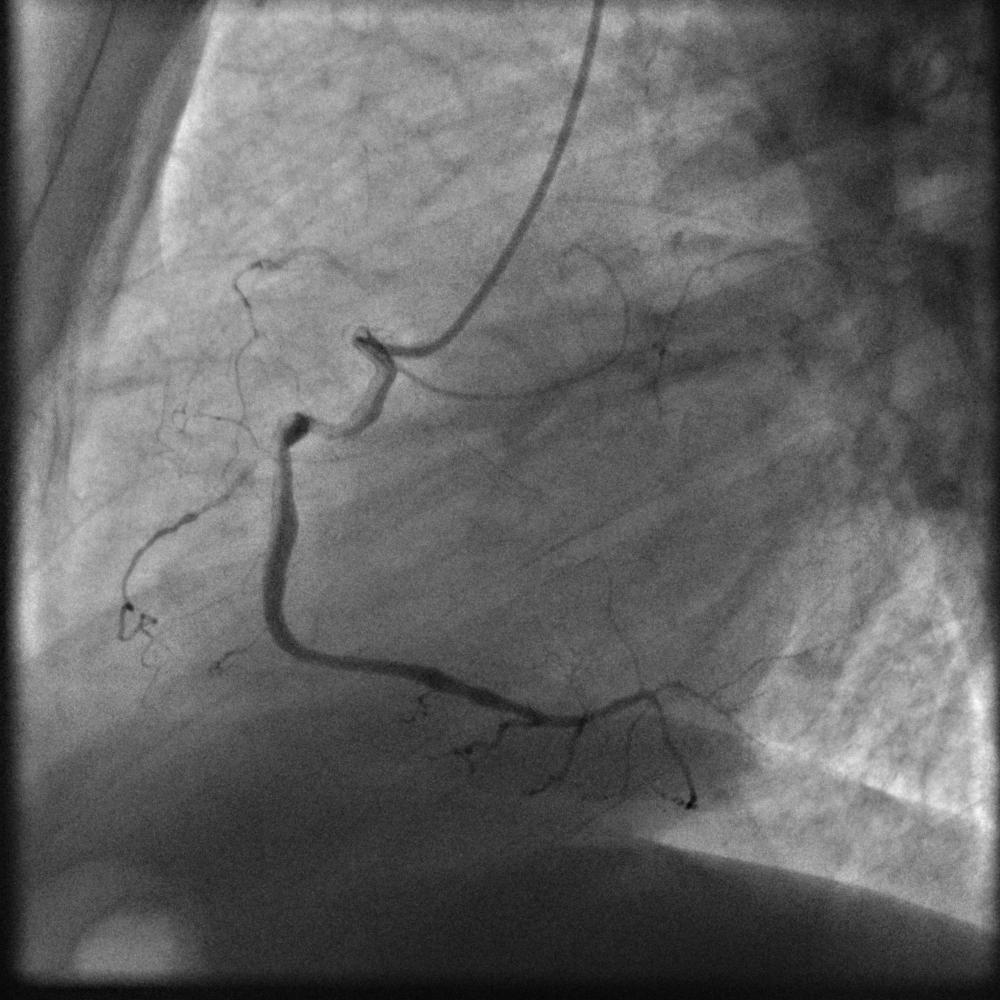Stenosis: (305, 412, 336, 445)
